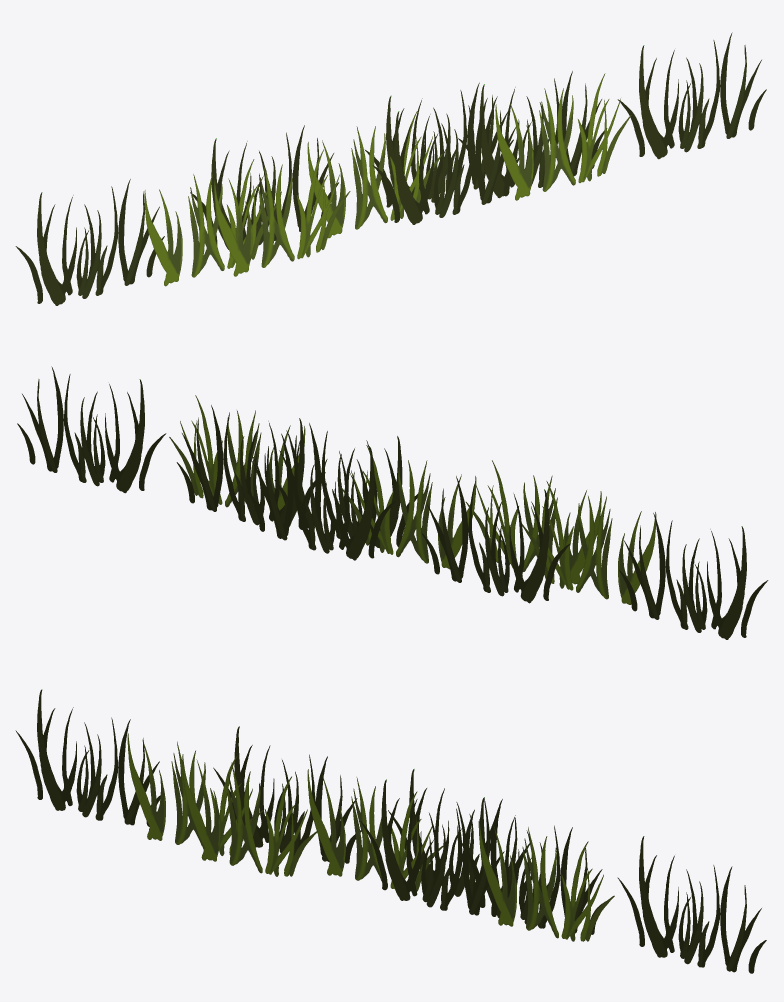
The model's file is grass_1014.FBX.
The picture shows the model from 3 angles, top to bottom: view 1: azimuth 30°, elevation 25°; view 2: azimuth 150°, elevation 25°; view 3: azimuth 330°, elevation 25°; orthographic projection.
Parts seen in each view (by area): view 1: Plane001; view 2: Plane001; view 3: Plane001.
Boxes of the visible parts, x1,y1,x2,y2 form: Plane001: (15,32,766,305); Plane001: (17,366,768,639); Plane001: (15,689,766,973).
Size of the model in its own units: 283 by 43.29 by 17.86.
1 material, 1 textured.
